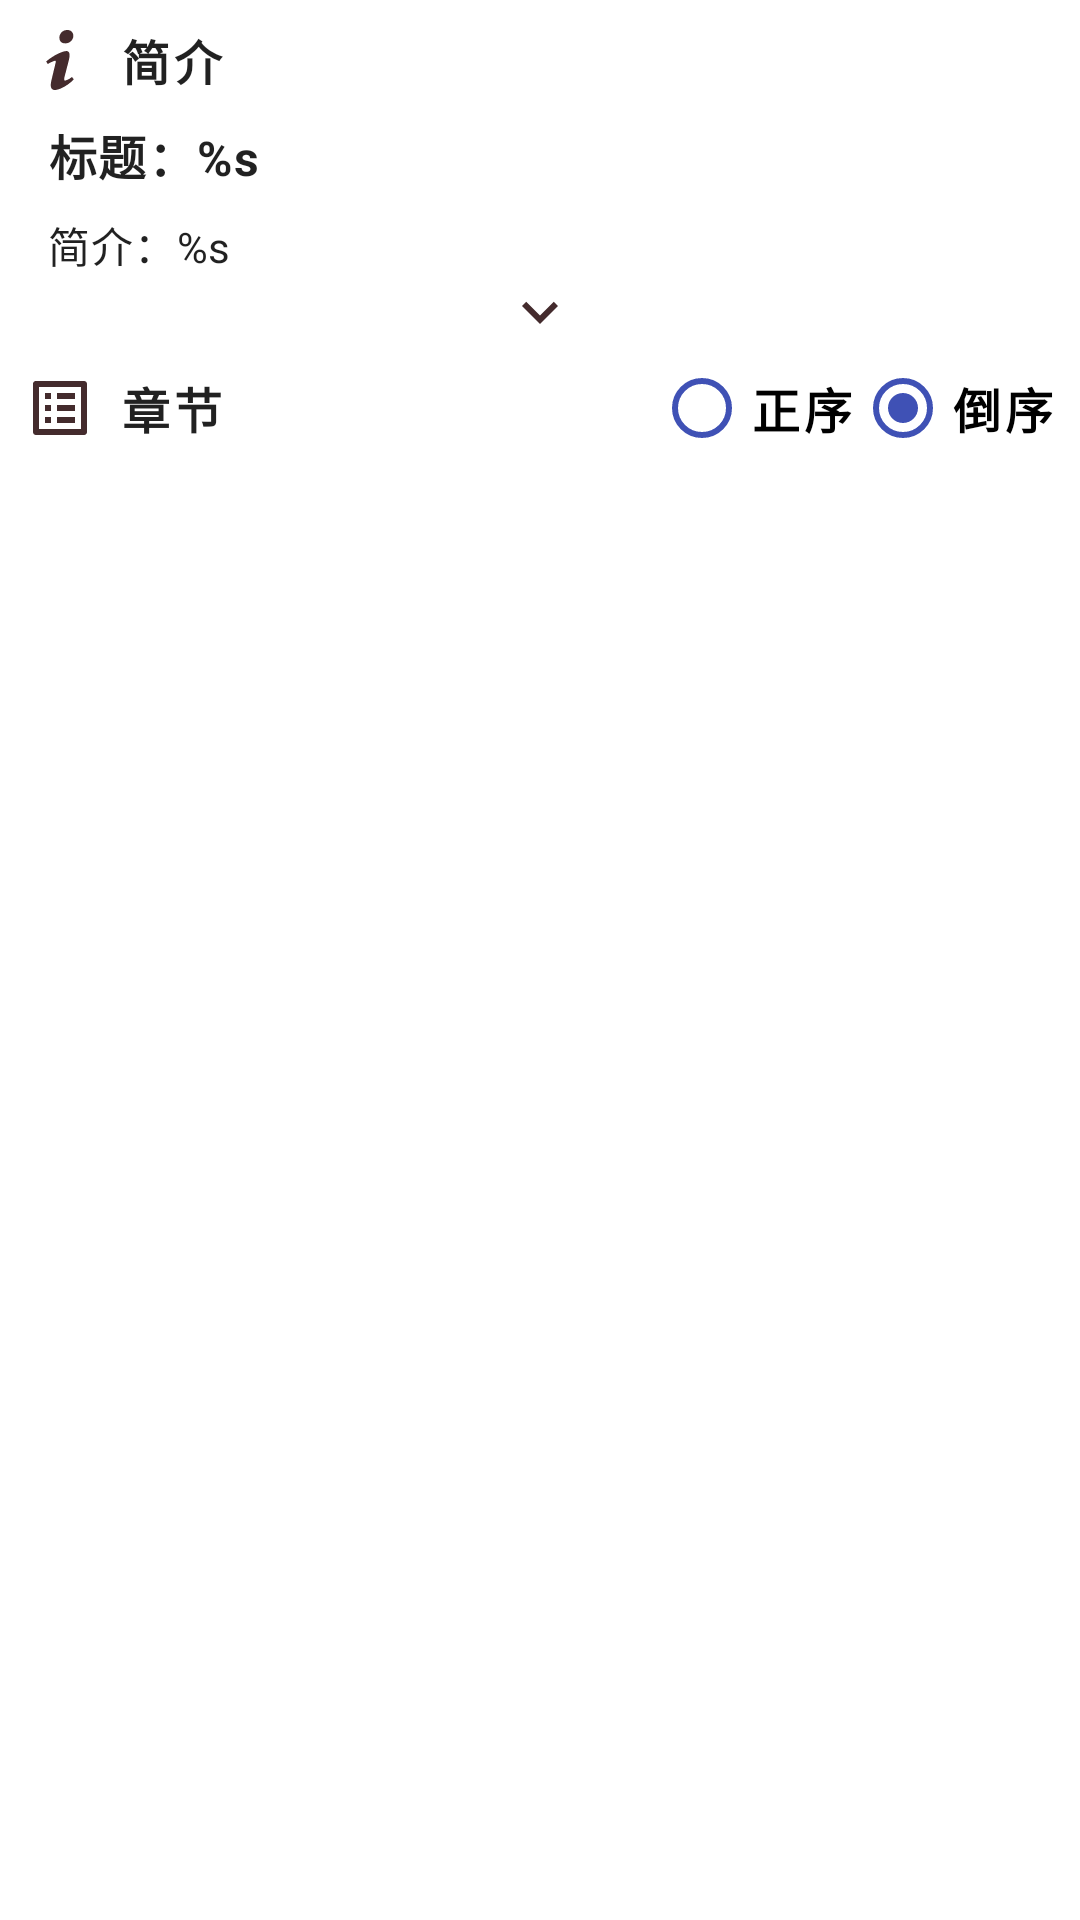

Named icons in this screenshot (1080px×1920px) and their bounding boxes, (x1, y1, x2, y2):
expand more: (522, 302, 558, 324)
info intro: (46, 30, 74, 90)
list: (33, 381, 87, 435)
